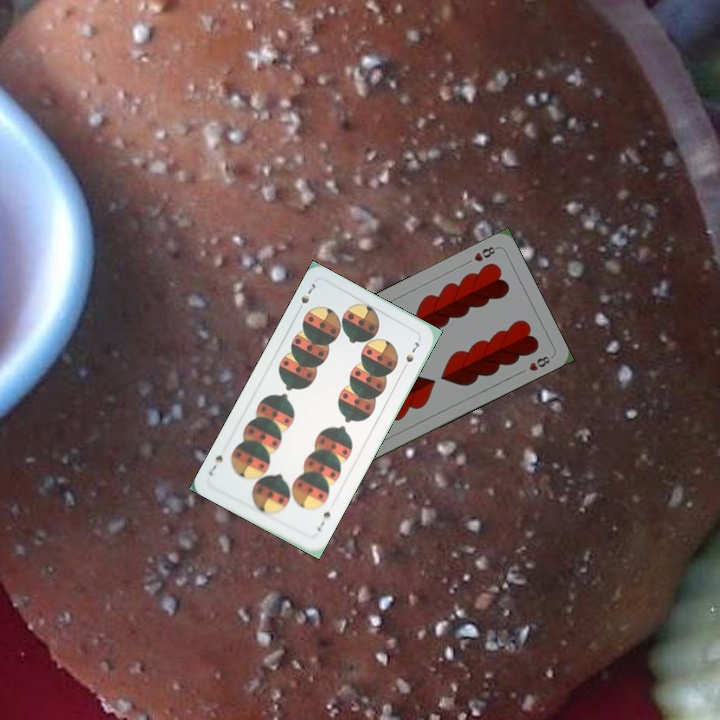H8: (470, 242, 500, 264)
S7: (293, 279, 318, 315), (313, 507, 333, 534)
